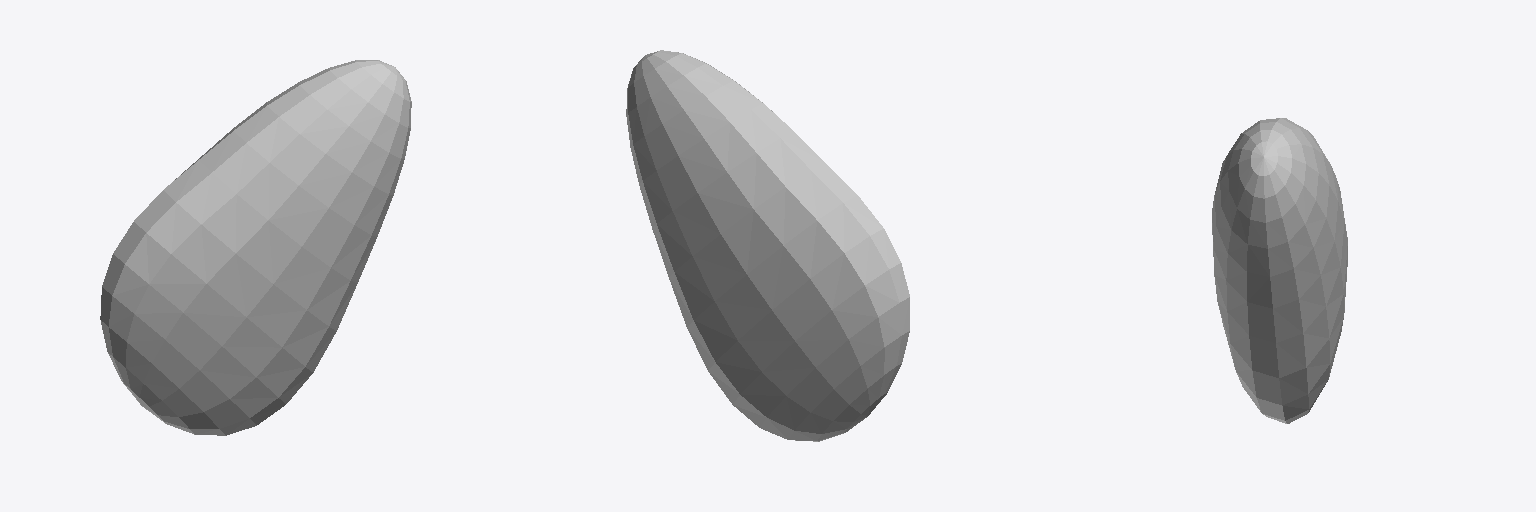
File: rightWing.obj
3 views of the same model, side by side, from view 1: azimuth 30°, elevation 25°; view 2: azimuth 150°, elevation 25°; view 3: azimuth 270°, elevation 25° (orthographic).
Visible parts, largest first — view 1: pSphere5; view 2: pSphere5; view 3: pSphere5.
Part boxes in pixels (left/top/right/bottom): pSphere5: left=100, top=60, right=411, bottom=435; pSphere5: left=626, top=50, right=909, bottom=441; pSphere5: left=1212, top=118, right=1347, bottom=423.
Bounding box in the file's own units: 1.13 × 1.29 × 0.4596.